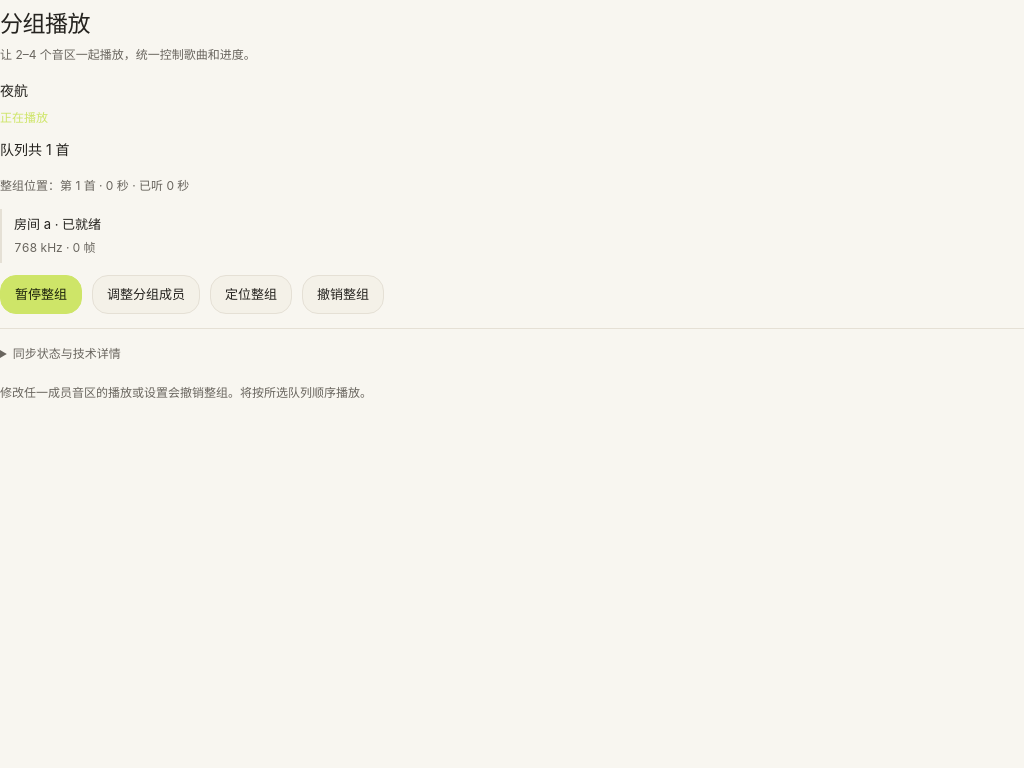
Test case: 分组播放 › 实验自动校正显示处理与归零状态，改组拒绝不支持租约的新输出
The image size is (1024, 768).
Click the button "调整分组成员" at (146, 294), box x1=92 y1=275 x2=200 y2=314
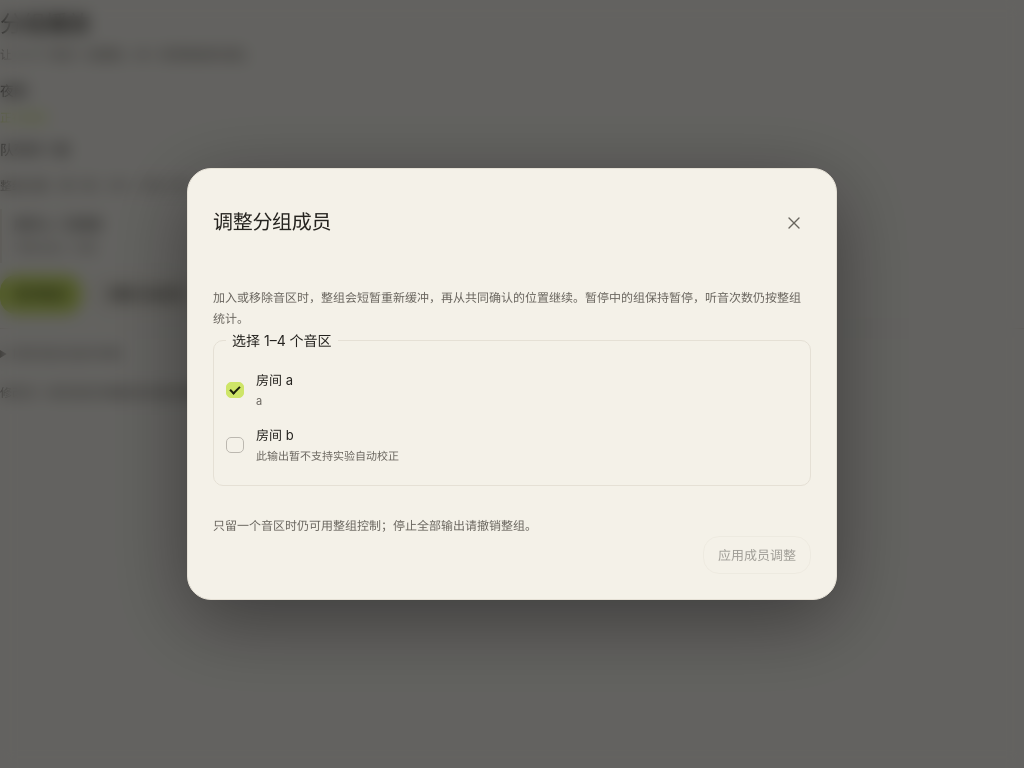
Check: the checkbox labelled "房间 b 此输出暂不支持实验自动校正" is disabled, box x1=226 y1=437 x2=244 y2=453
Check: the label "房间 b 此输出暂不支持实验自动校正" is shown, box x1=226 y1=427 x2=399 y2=463
